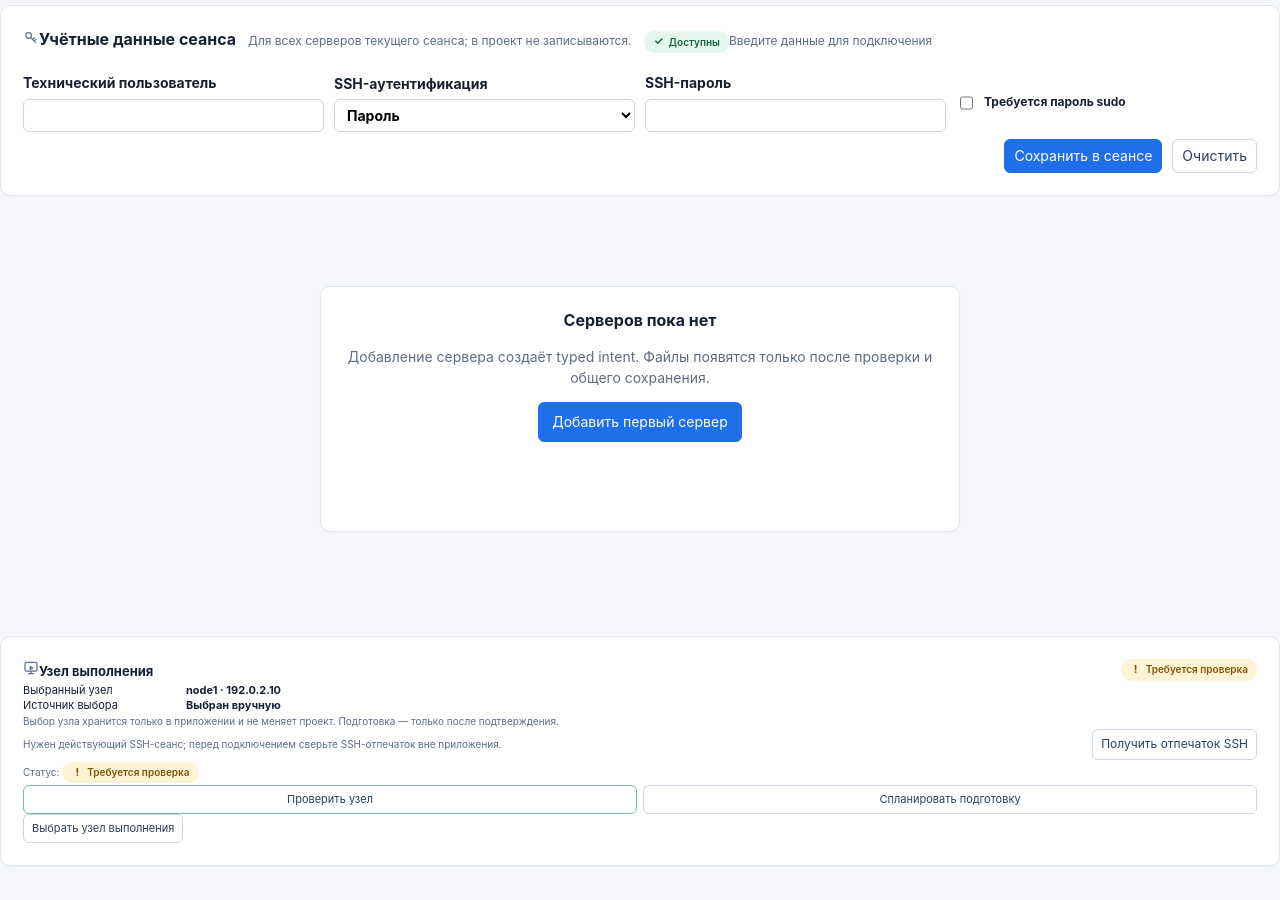
Test: Execution Node SSH key approval › revokes an unapproved probe when the dialog is closed
This screenshot has width=1280, height=900.
(page scrolled)
What coordinates should you click on to do the following:
click the button "Получить отпечаток SSH"
I would click on:
 (1175, 744)
Its box is [1092,729,1257,760].
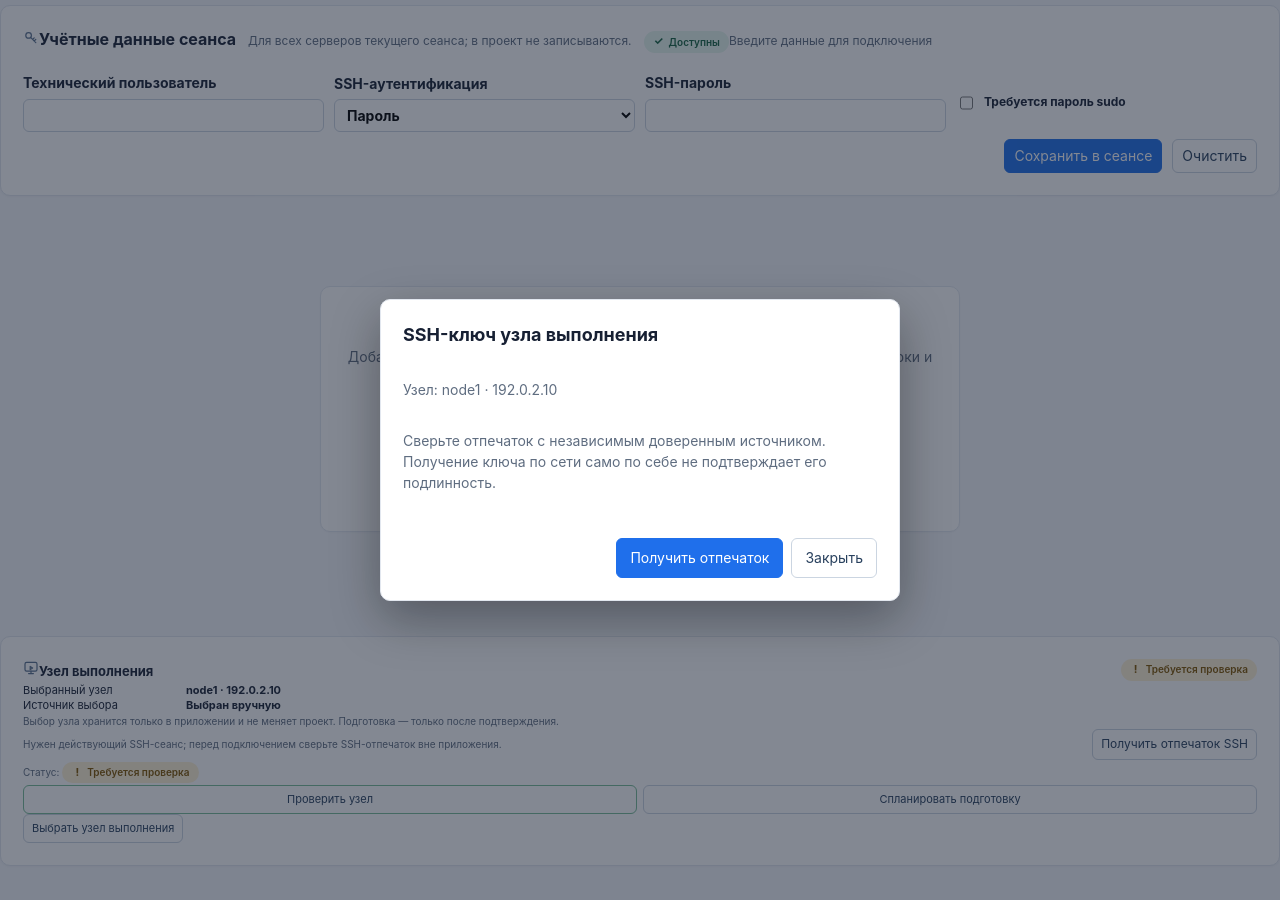
What coordinates should you click on to do the following:
click the button "Получить отпечаток"
I would click on:
 (700, 558)
Its box is [616,538,784,578].
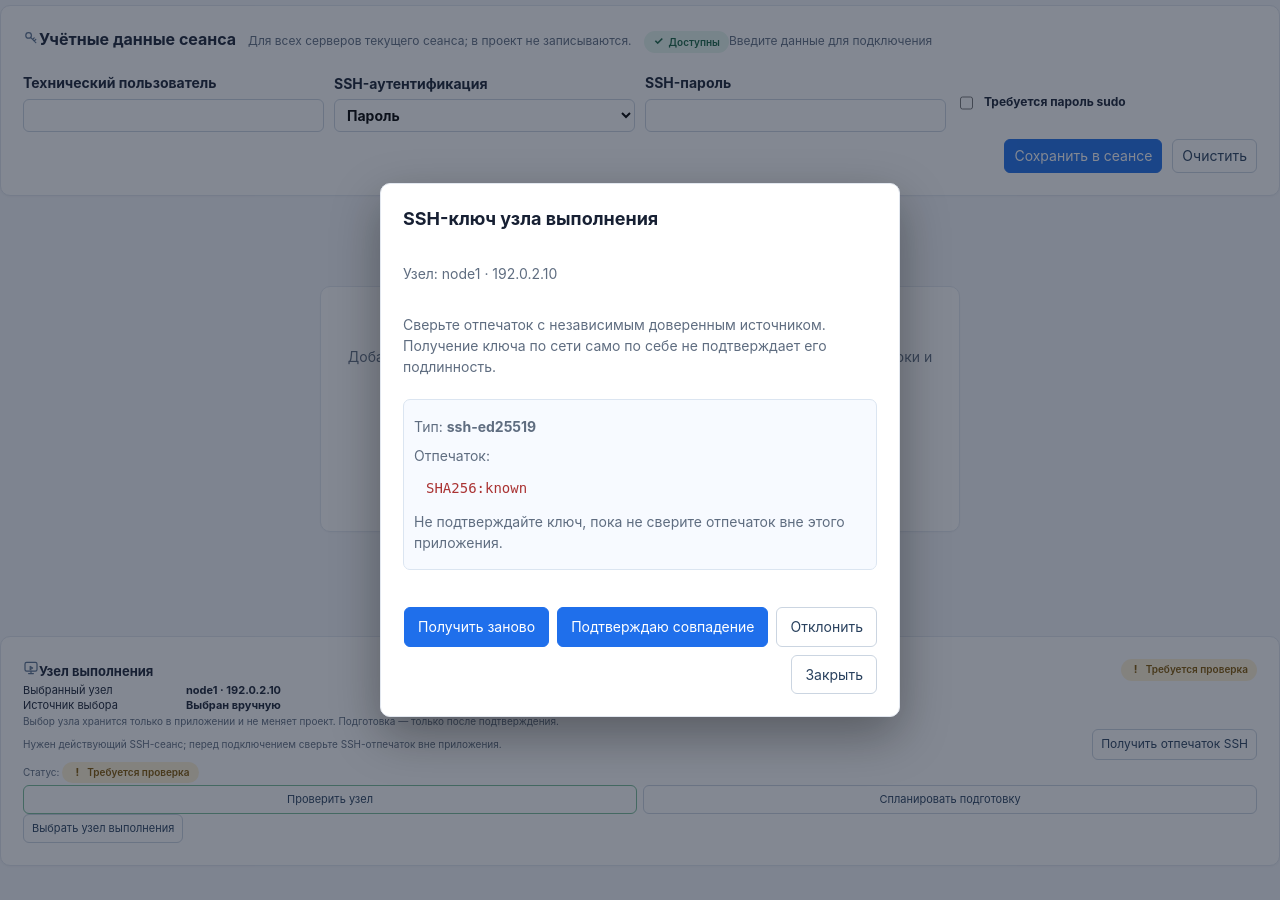
Check: the text "SHA256:known" is shown, box [426,480,527,496]
What coordinates should you click on to do the following:
click the button "Закрыть"
I would click on:
 (834, 674)
Its box is [792,655,877,694].
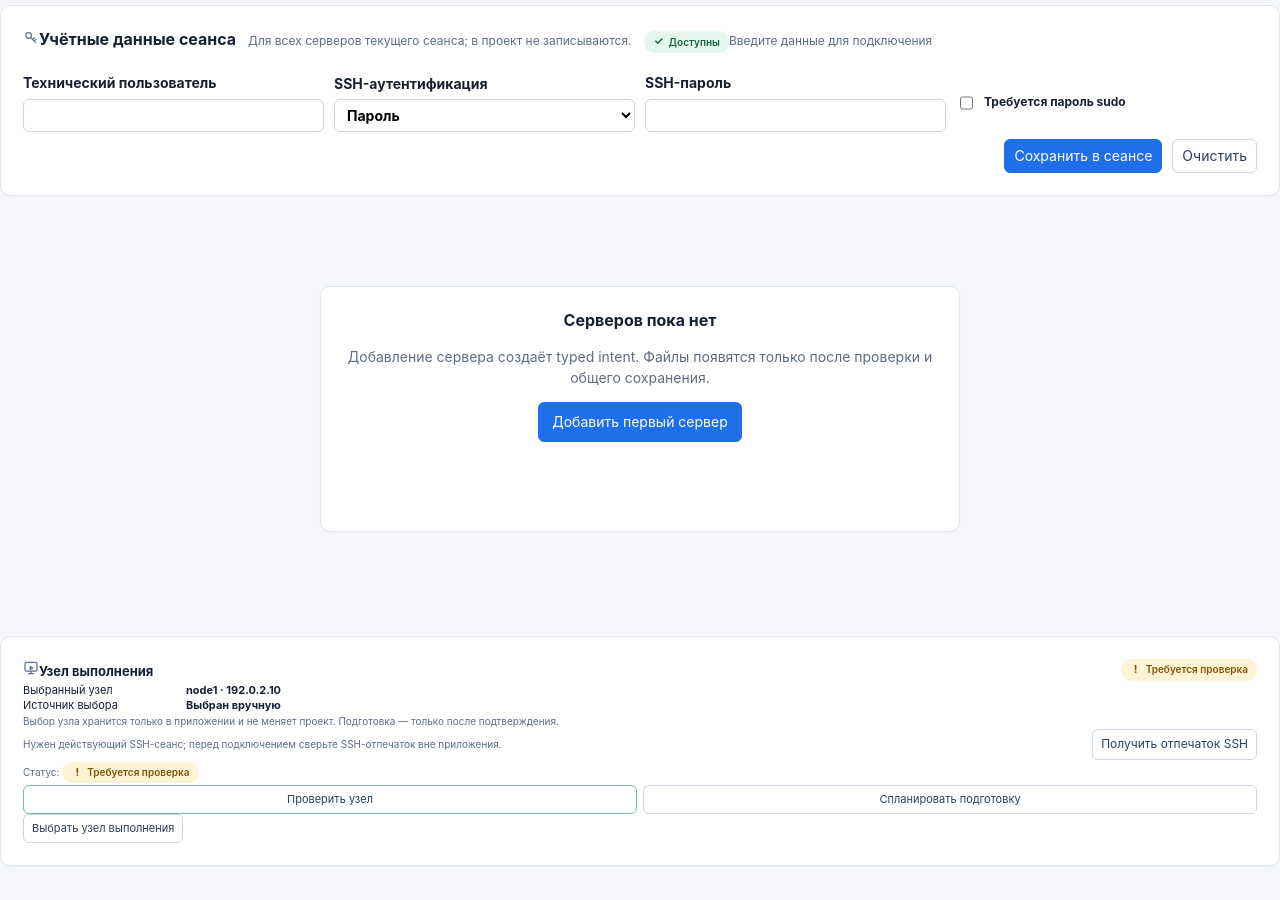
Check: the heading "SSH-ключ узла выполнения" is gone
